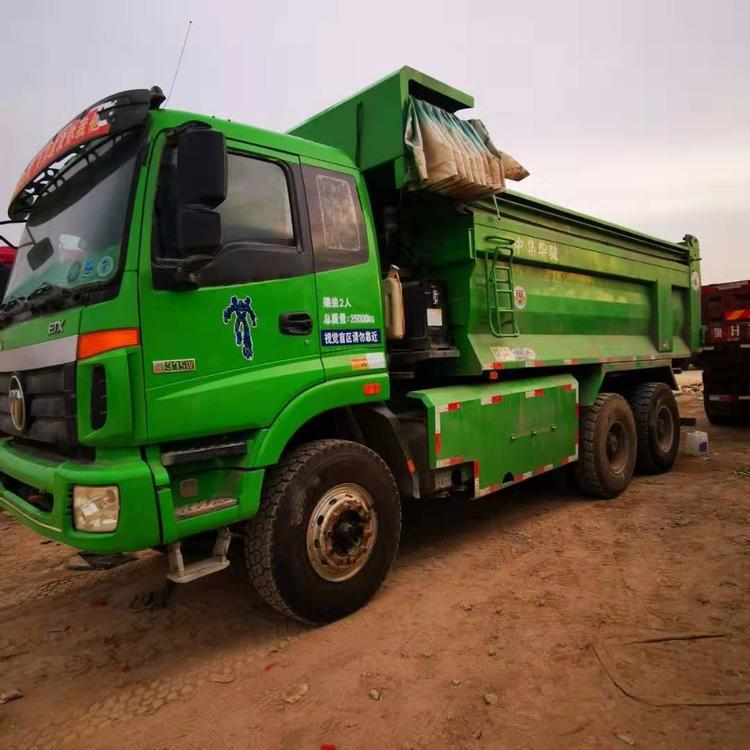truck: (2, 67, 702, 639)
